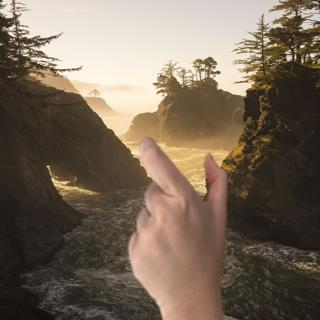Irritated: (120, 133, 235, 312)
